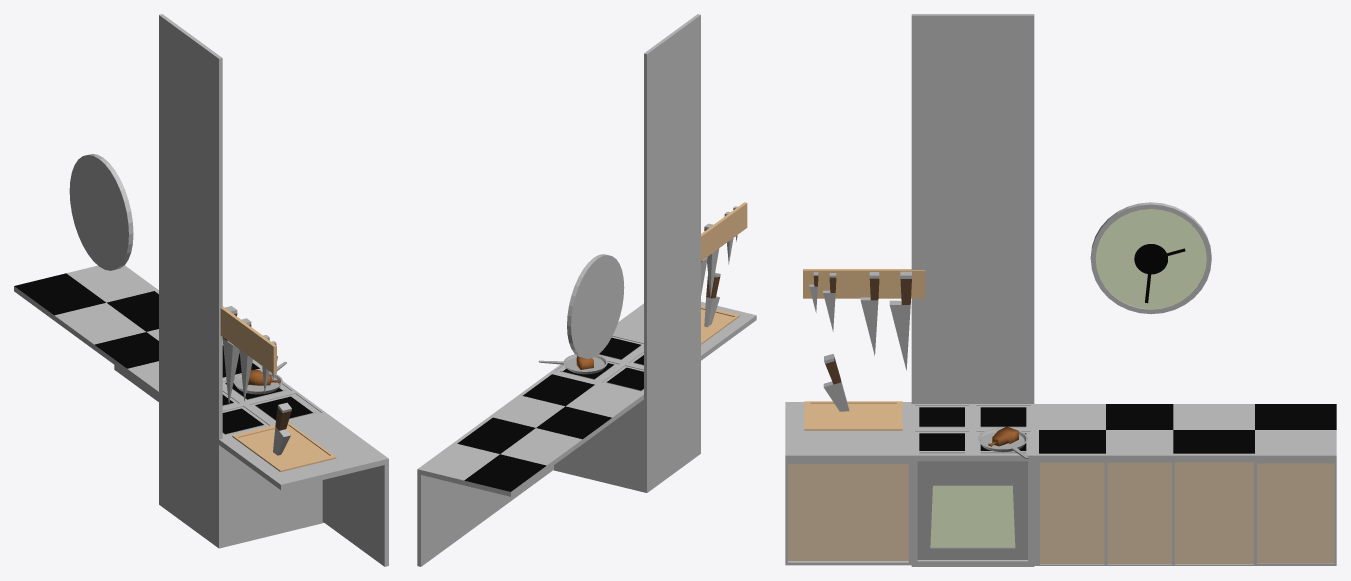
File: keuken_aanrecht_GGJ.fbx
3 renders of one model, left to right at view 1: azimuth 30°, elevation 25°; view 2: azimuth 150°, elevation 25°; view 3: azimuth 270°, elevation 25°, orthographic. The views are drawn at different scales.
Visible parts, largest first — view 1: Cube.001; view 2: Cube.001; view 3: Cube.001.
Part boxes in pixels (<box>): Cube.001: <box>14,14,388,566</box>; Cube.001: <box>417,14,756,566</box>; Cube.001: <box>785,14,1336,566</box>.
Bounding box in the file's own units: 962 × 3551 × 3555.
